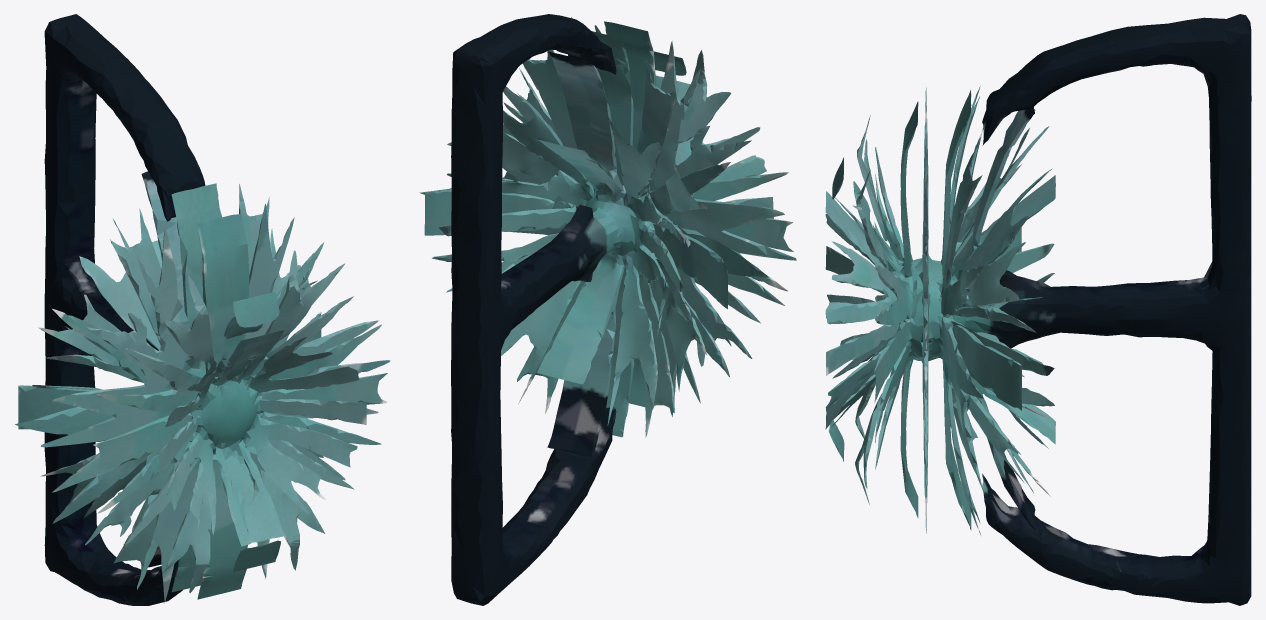
Rendered from Pandora_PuffballTree.glb.
The picture shows the model from 3 angles, left to right: view 1: azimuth 30°, elevation 25°; view 2: azimuth 150°, elevation 25°; view 3: azimuth 270°, elevation 25°; orthographic projection. The views are drawn at different scales.
Visible parts, largest first — view 1: Puffball; view 2: Puffball; view 3: Puffball.
Part boxes in pixels (x1,y1,x2,y2): Puffball: [15, 14, 390, 605]; Puffball: [419, 14, 796, 605]; Puffball: [825, 14, 1251, 605].
Bounding box in the file's own units: 2.13 × 3.2 × 2.13.
Materials: 1 (1 with a texture image).
